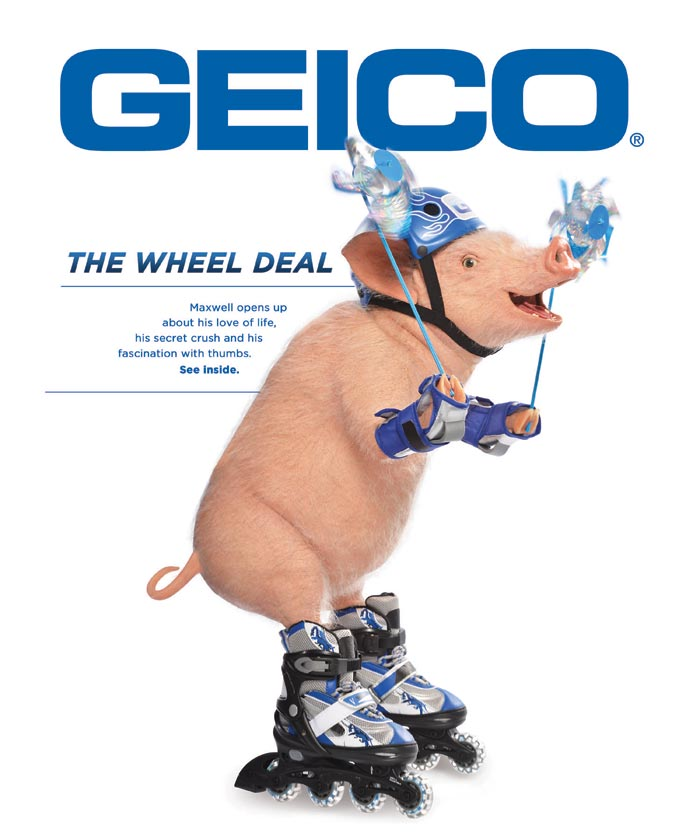Geico: (54, 38, 656, 157)
